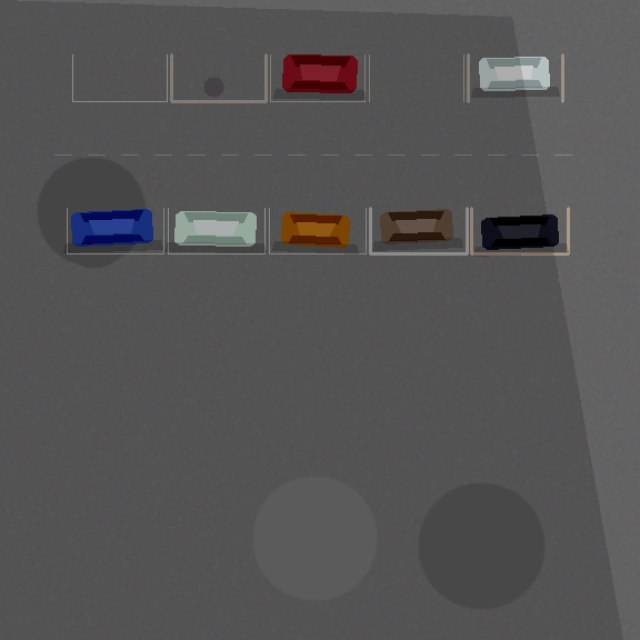space-empty: (72, 54, 167, 101), (171, 54, 266, 101), (369, 54, 463, 101)
space-occupied: (270, 54, 364, 101), (468, 54, 562, 101), (269, 208, 366, 253), (370, 208, 467, 253), (471, 208, 568, 253), (67, 208, 163, 253), (168, 208, 264, 253)
